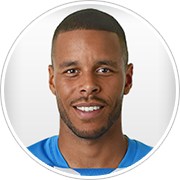face: (43, 35, 135, 127)
